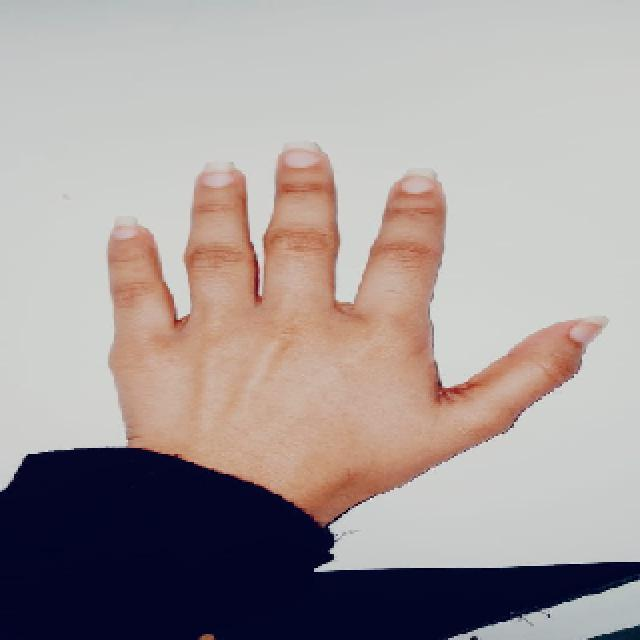Nail: (281, 141, 321, 169), (569, 318, 608, 346), (199, 162, 239, 188), (398, 169, 438, 194), (111, 216, 141, 240)
